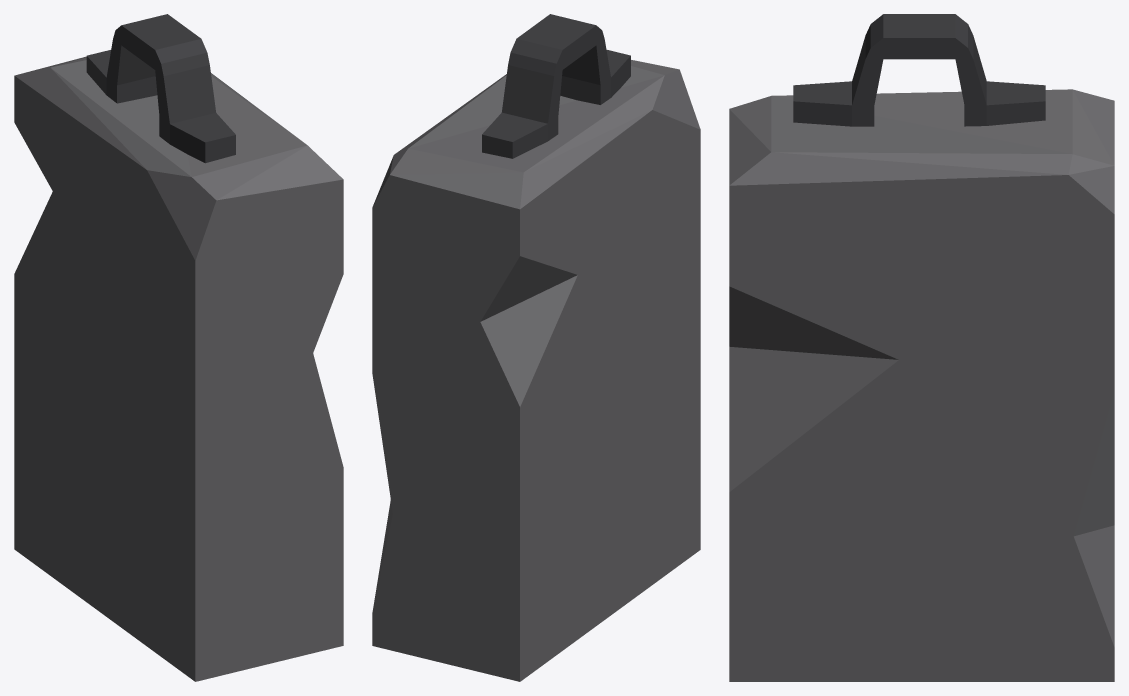
The model's file is SM_Prop_WaterWheel_Support_01.glb.
3 renders of one model, left to right at view 1: azimuth 30°, elevation 25°; view 2: azimuth 150°, elevation 25°; view 3: azimuth 270°, elevation 25°, orthographic. The views are drawn at different scales.
Visible parts, largest first — view 1: SM_Prop_WaterWheel_Support_01; view 2: SM_Prop_WaterWheel_Support_01; view 3: SM_Prop_WaterWheel_Support_01.
Boxes of the visible parts, x1,y1,x2,y2 form: SM_Prop_WaterWheel_Support_01: [14, 14, 343, 681]; SM_Prop_WaterWheel_Support_01: [372, 14, 700, 681]; SM_Prop_WaterWheel_Support_01: [729, 14, 1114, 681].
Bounding box in the file's own units: 0.851 × 3.13 × 1.8.
Materials: 1 (1 with a texture image).
